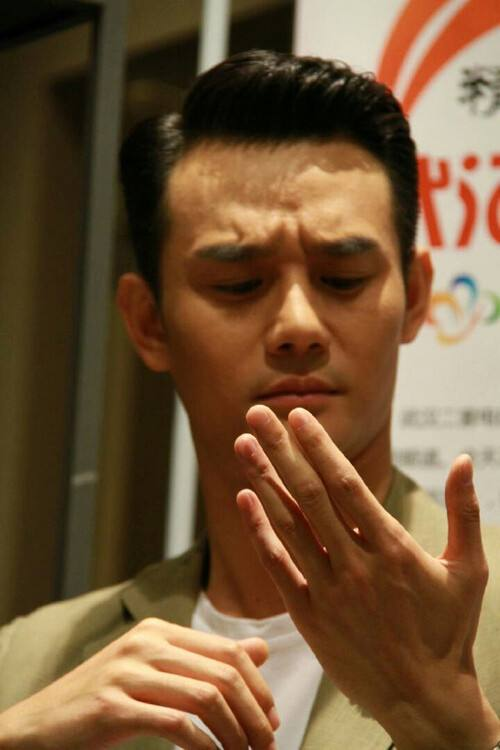no-phone: (230, 396, 492, 721)
